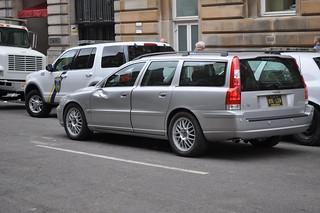doorouter-dent: (90, 82, 128, 117)
